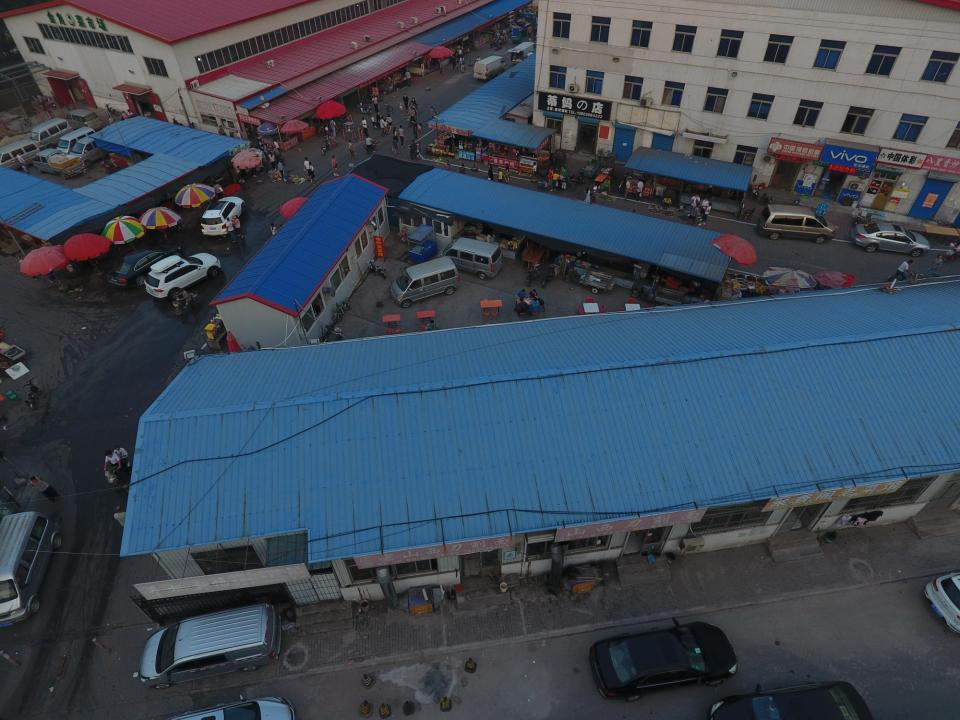car: (588, 617, 738, 702), (707, 678, 873, 720), (106, 239, 182, 289), (144, 252, 222, 300), (851, 221, 932, 257), (201, 196, 245, 237)
truck: (32, 148, 88, 180)
van: (138, 603, 283, 690), (0, 510, 61, 626), (388, 255, 462, 309), (756, 203, 836, 244), (438, 236, 504, 280), (70, 132, 121, 167), (29, 117, 76, 149), (0, 141, 42, 172), (57, 126, 96, 156), (63, 107, 103, 133), (473, 55, 508, 80), (508, 42, 542, 65)
